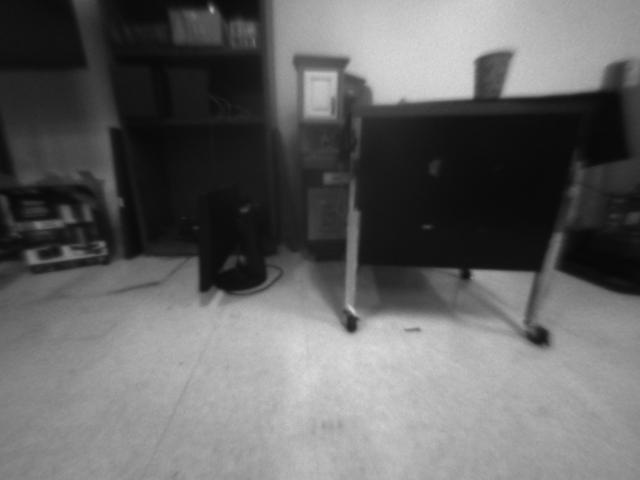coffee_cup: (469, 50, 515, 96)
